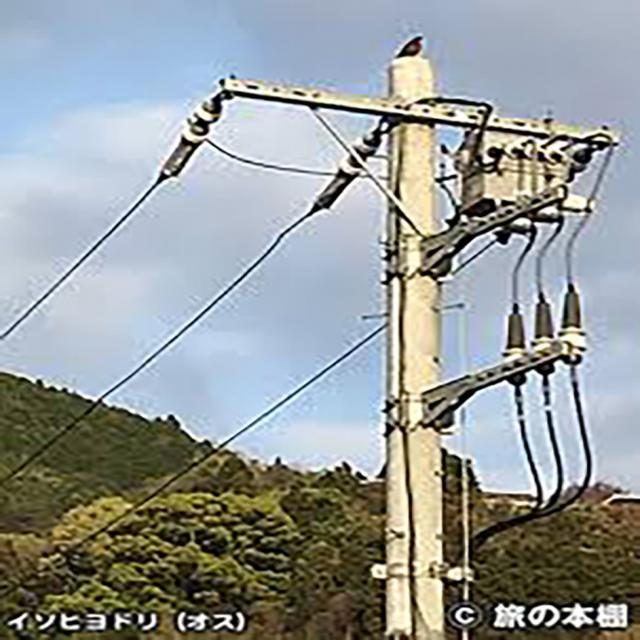pole: (165, 27, 629, 640)
